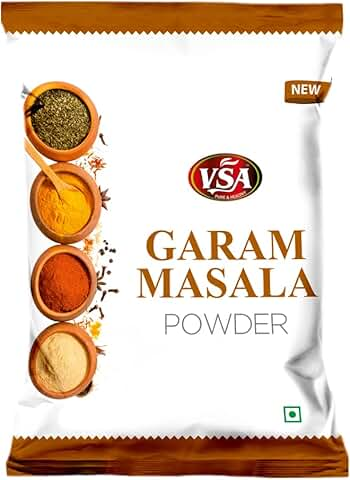Garamasala: (1, 2, 350, 480)
